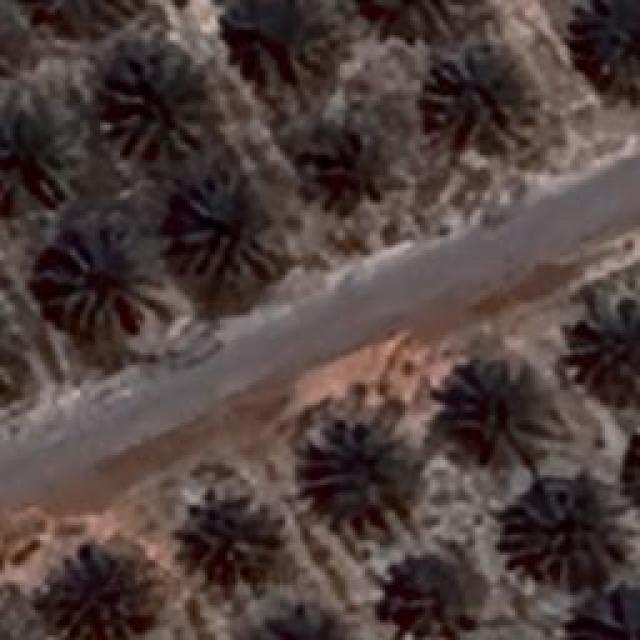PalmTree: (500, 470, 635, 575), (422, 40, 536, 150), (40, 235, 165, 330), (105, 45, 205, 160), (175, 172, 280, 280), (445, 360, 553, 462), (300, 418, 418, 510), (175, 484, 280, 578), (48, 550, 152, 640), (0, 97, 80, 205), (376, 557, 473, 640), (344, 0, 498, 49), (301, 130, 391, 210), (568, 290, 638, 390), (238, 9, 332, 79), (580, 0, 640, 100), (10, 0, 160, 38), (240, 603, 358, 640), (565, 584, 640, 640), (0, 302, 31, 404)
